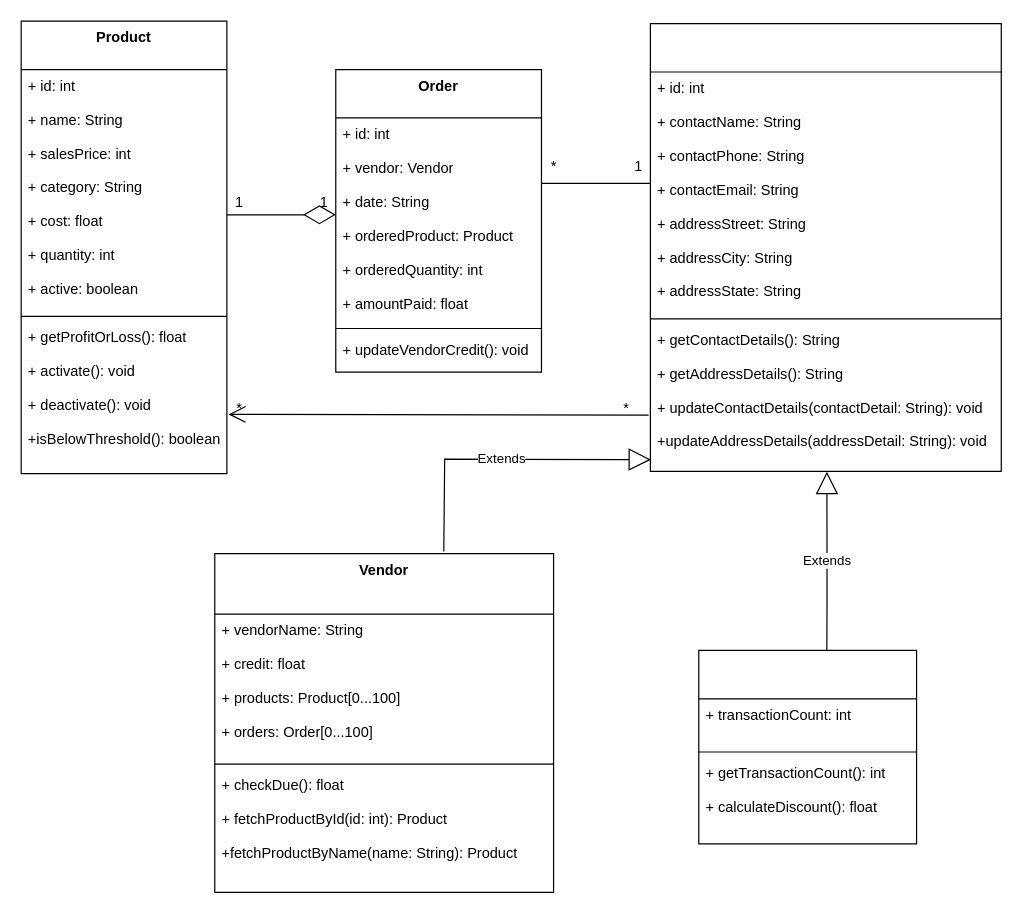
Some shapes in this 1022 by 917 pixel diagram are drawn without their labels. The shapes that lost their labels are listed below. From the top down, each one's box as (x1, y1, x2, y2) in pixels, then its label:
(649, 22, 1001, 471): BusinessPartner
(698, 649, 917, 844): Customer
